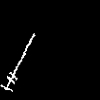treble_crochet: (1, 34, 34, 91)
